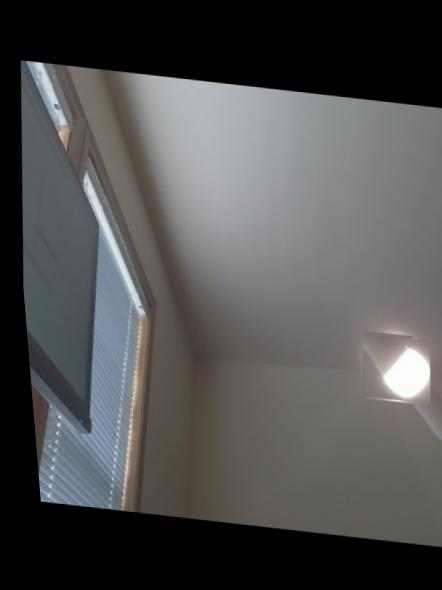TubeLight: (353, 328, 426, 401)
